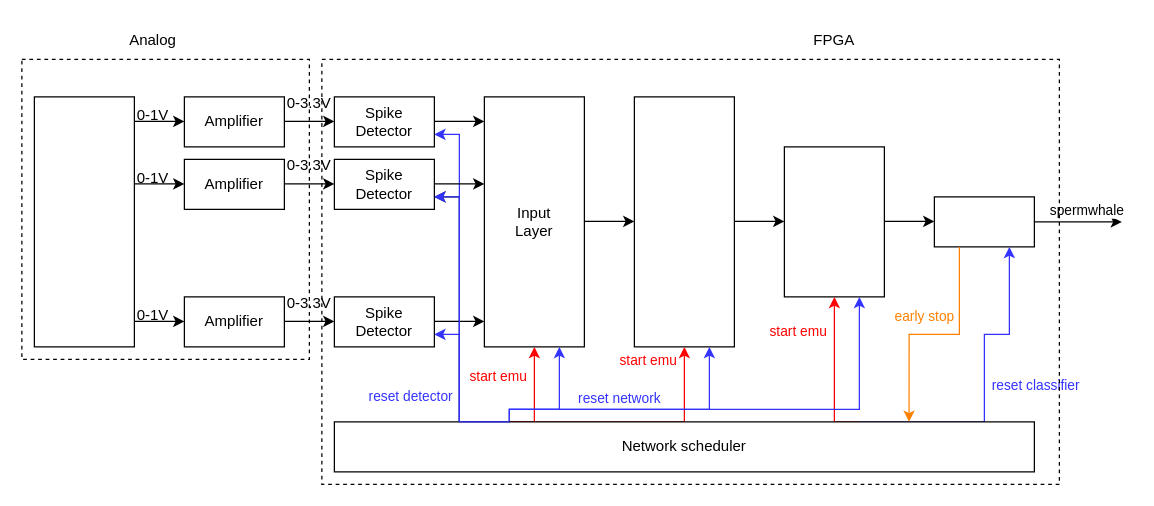
The diagram is 1154 pixels wide and 506 high, and some of its shapes have lost their labels. Each missing label, with the centre of its shape:
Classifier: point 983,221
Cochlea: point 83,221
Hidden Layer: point 683,221
Output Layer: point 833,221
